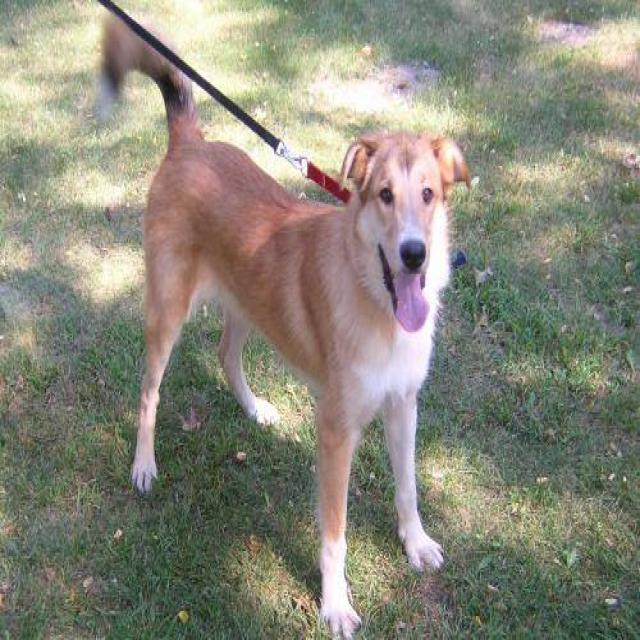dog: (95, 7, 472, 638)
